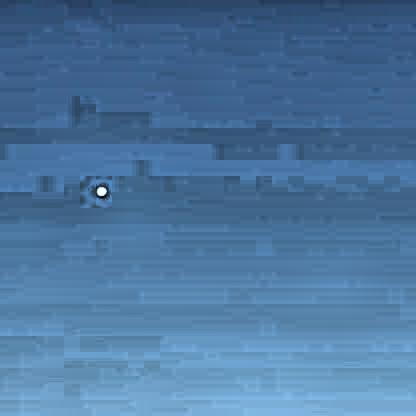golfball: (92, 183, 106, 195)
